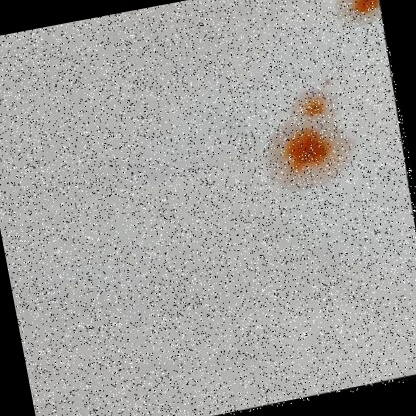kimchi: (274, 92, 349, 187), (340, 0, 383, 20)
